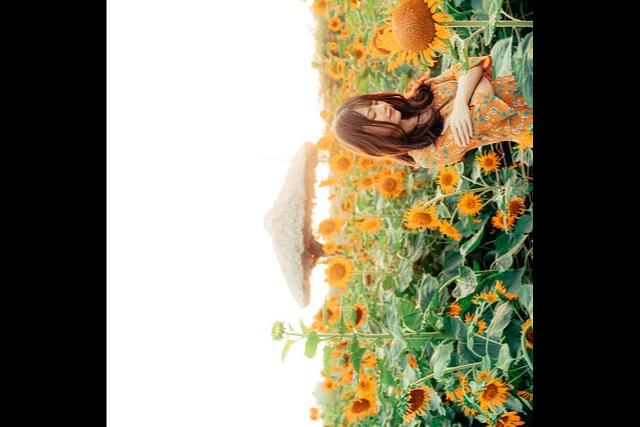Non_Gorille: (288, 0, 533, 297)
